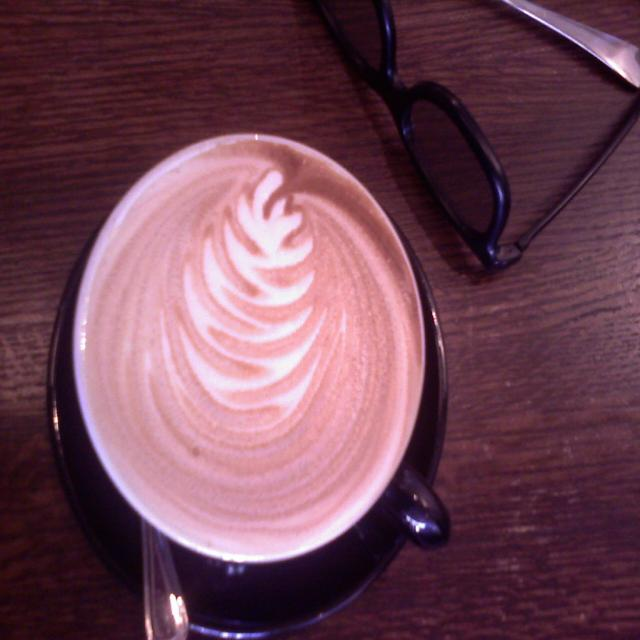latte: (71, 130, 428, 560)
